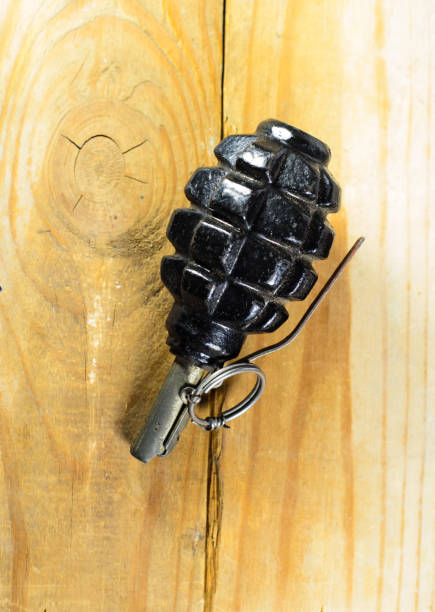e1: (128, 121, 365, 459)
